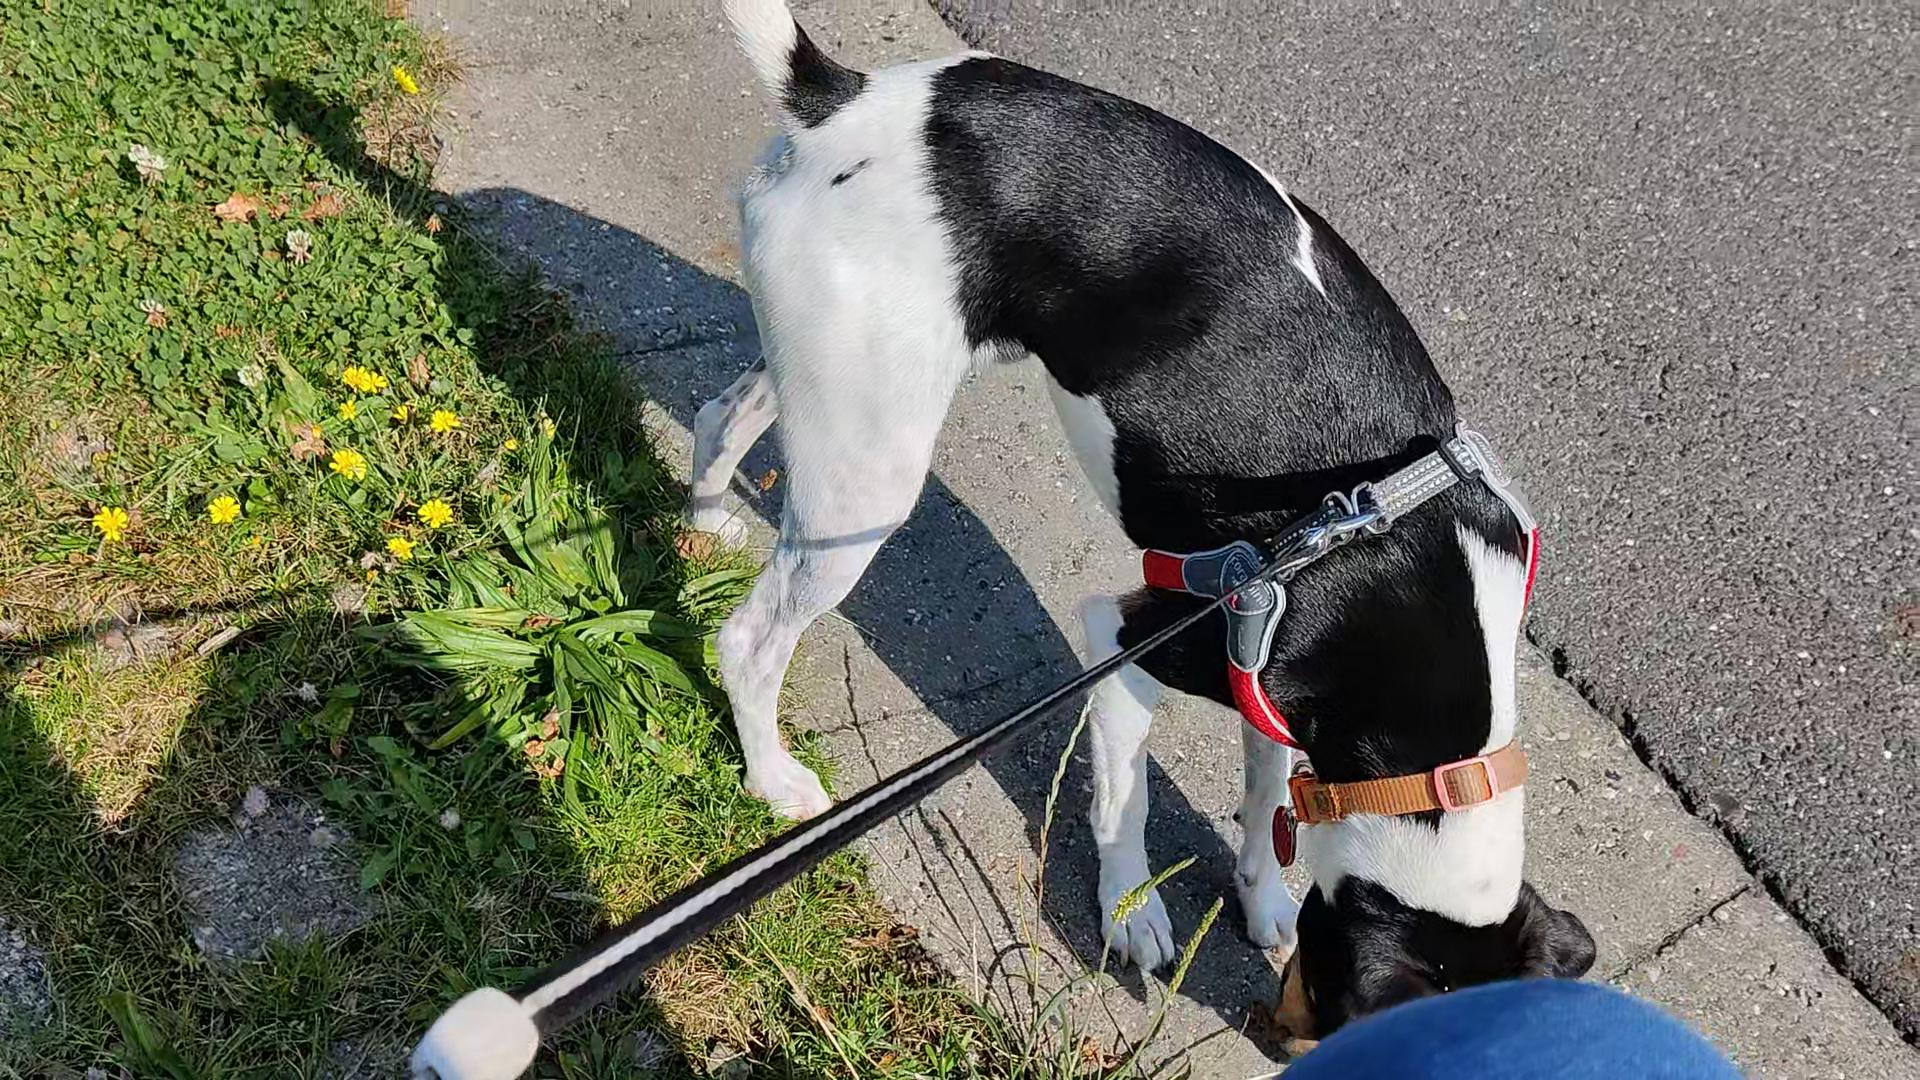Dog: (663, 0, 1623, 1062)
